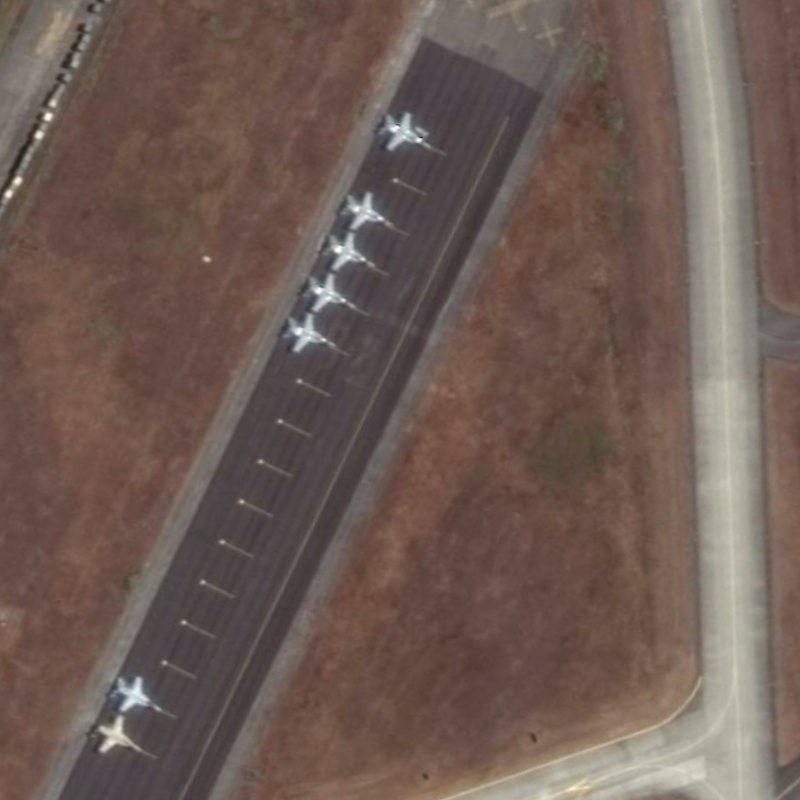A16: (82, 711, 154, 761), (373, 105, 439, 159), (104, 666, 171, 717), (276, 311, 346, 359), (318, 228, 383, 277), (335, 183, 395, 233), (295, 270, 355, 315)
